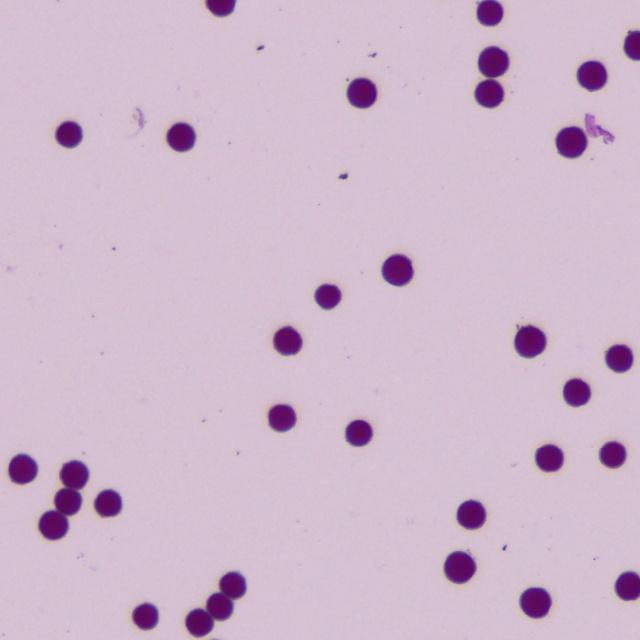viable: (444, 551, 475, 583), (514, 325, 545, 357), (556, 126, 586, 157), (382, 254, 412, 285), (520, 587, 551, 617), (479, 46, 508, 77), (347, 78, 376, 108), (39, 510, 68, 539), (577, 61, 606, 90), (60, 460, 88, 489), (273, 327, 302, 355), (9, 453, 36, 483), (167, 123, 195, 151), (457, 500, 485, 528), (563, 378, 590, 406), (54, 487, 81, 515), (535, 444, 563, 471), (268, 404, 296, 431), (475, 80, 503, 107), (206, 592, 233, 620), (219, 571, 246, 599), (185, 609, 213, 636), (599, 441, 626, 468), (94, 489, 121, 516), (605, 345, 632, 372), (345, 420, 372, 446), (132, 602, 158, 629), (476, 0, 503, 25), (615, 572, 639, 600), (314, 284, 340, 309), (56, 121, 81, 147), (206, 0, 234, 16), (625, 31, 639, 59)
